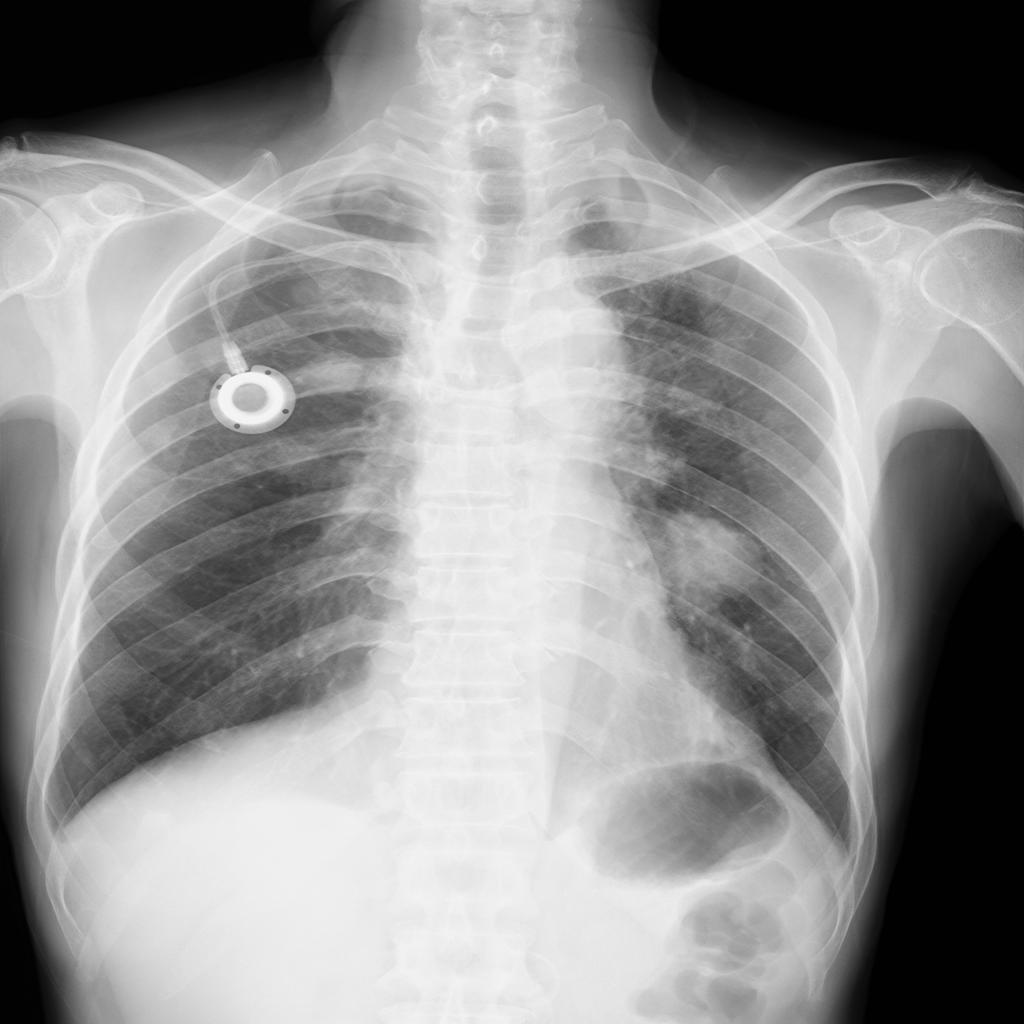Nodule: (662, 508, 770, 622), (564, 336, 638, 430), (669, 689, 730, 748), (266, 436, 325, 484), (303, 351, 364, 395), (291, 277, 331, 307), (154, 413, 179, 435), (767, 410, 795, 429)
